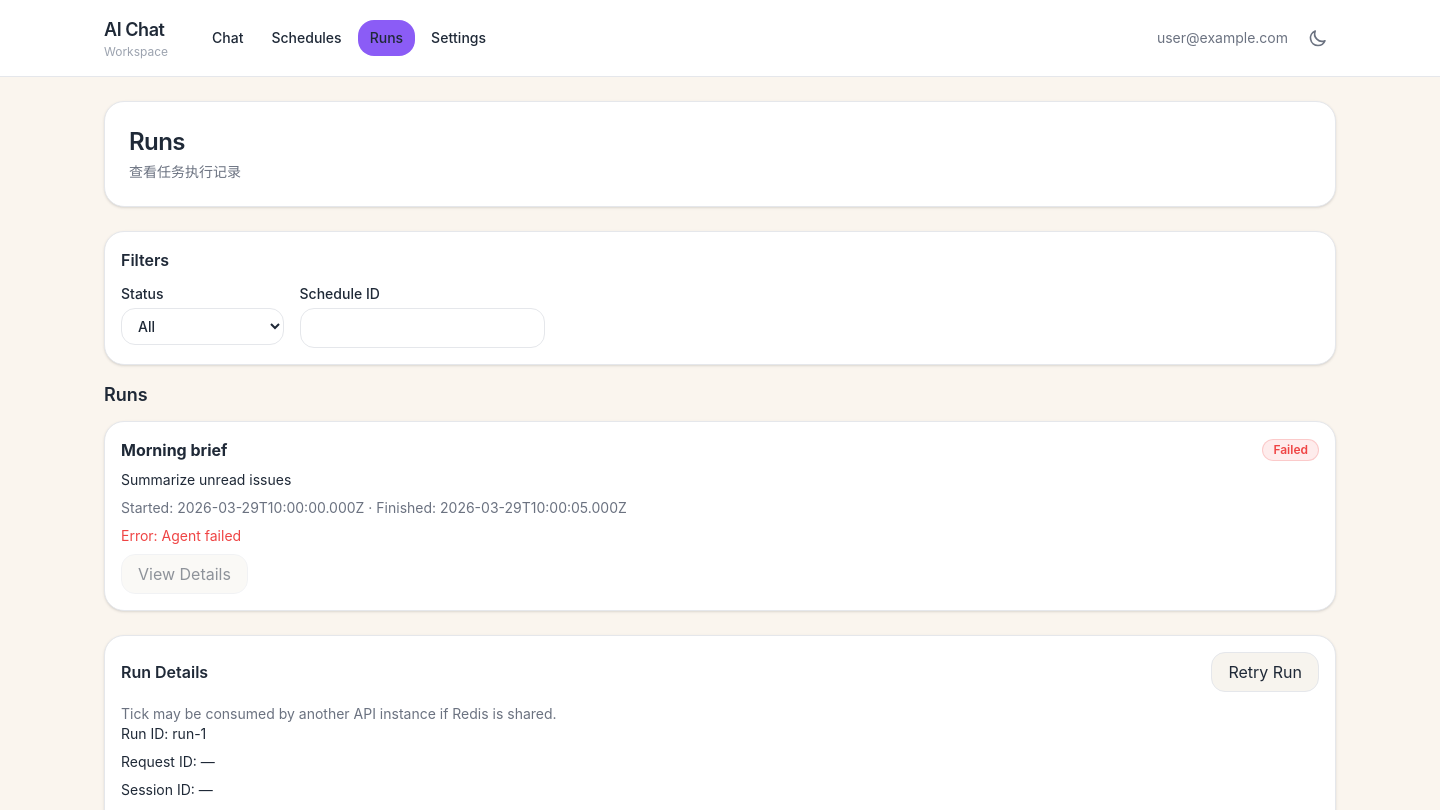
Test: RunsPage › retries selected run and refreshes pending retry to completed details
This screenshot has width=1440, height=810.
Check: the text "Tick may be consumed by another API instance if Redis is shared." is shown, box [121, 705, 557, 722]
Click the button "Retry Run".
click(1265, 672)  # box [1211, 652, 1319, 692]
(page scrolled)
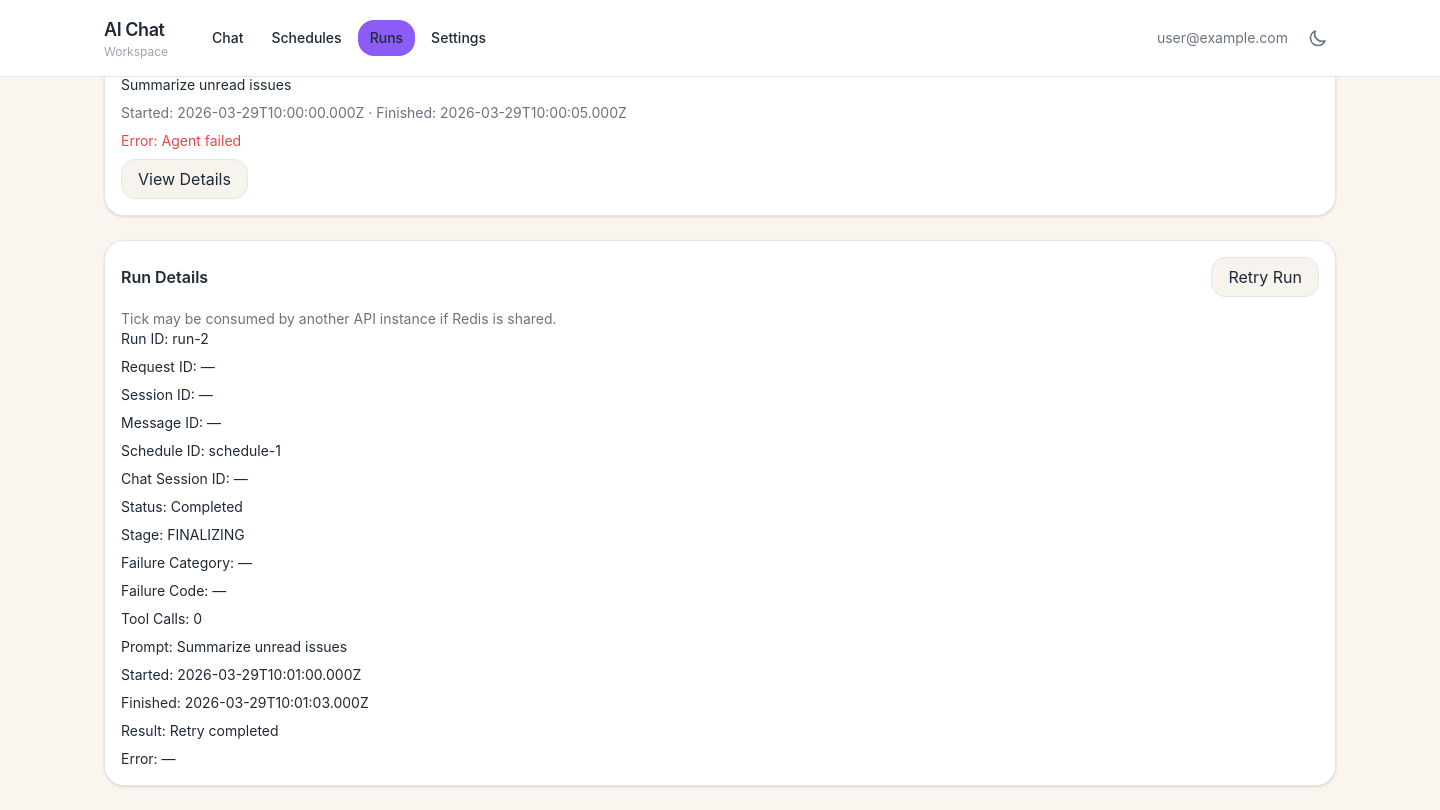
Check: the text "Run ID: run-2" is shown, box [121, 330, 209, 347]
Check: the text "Status: Completed" is shown, box [121, 498, 243, 515]
Check: the text "Result: Retry completed" is shown, box [121, 722, 279, 739]
